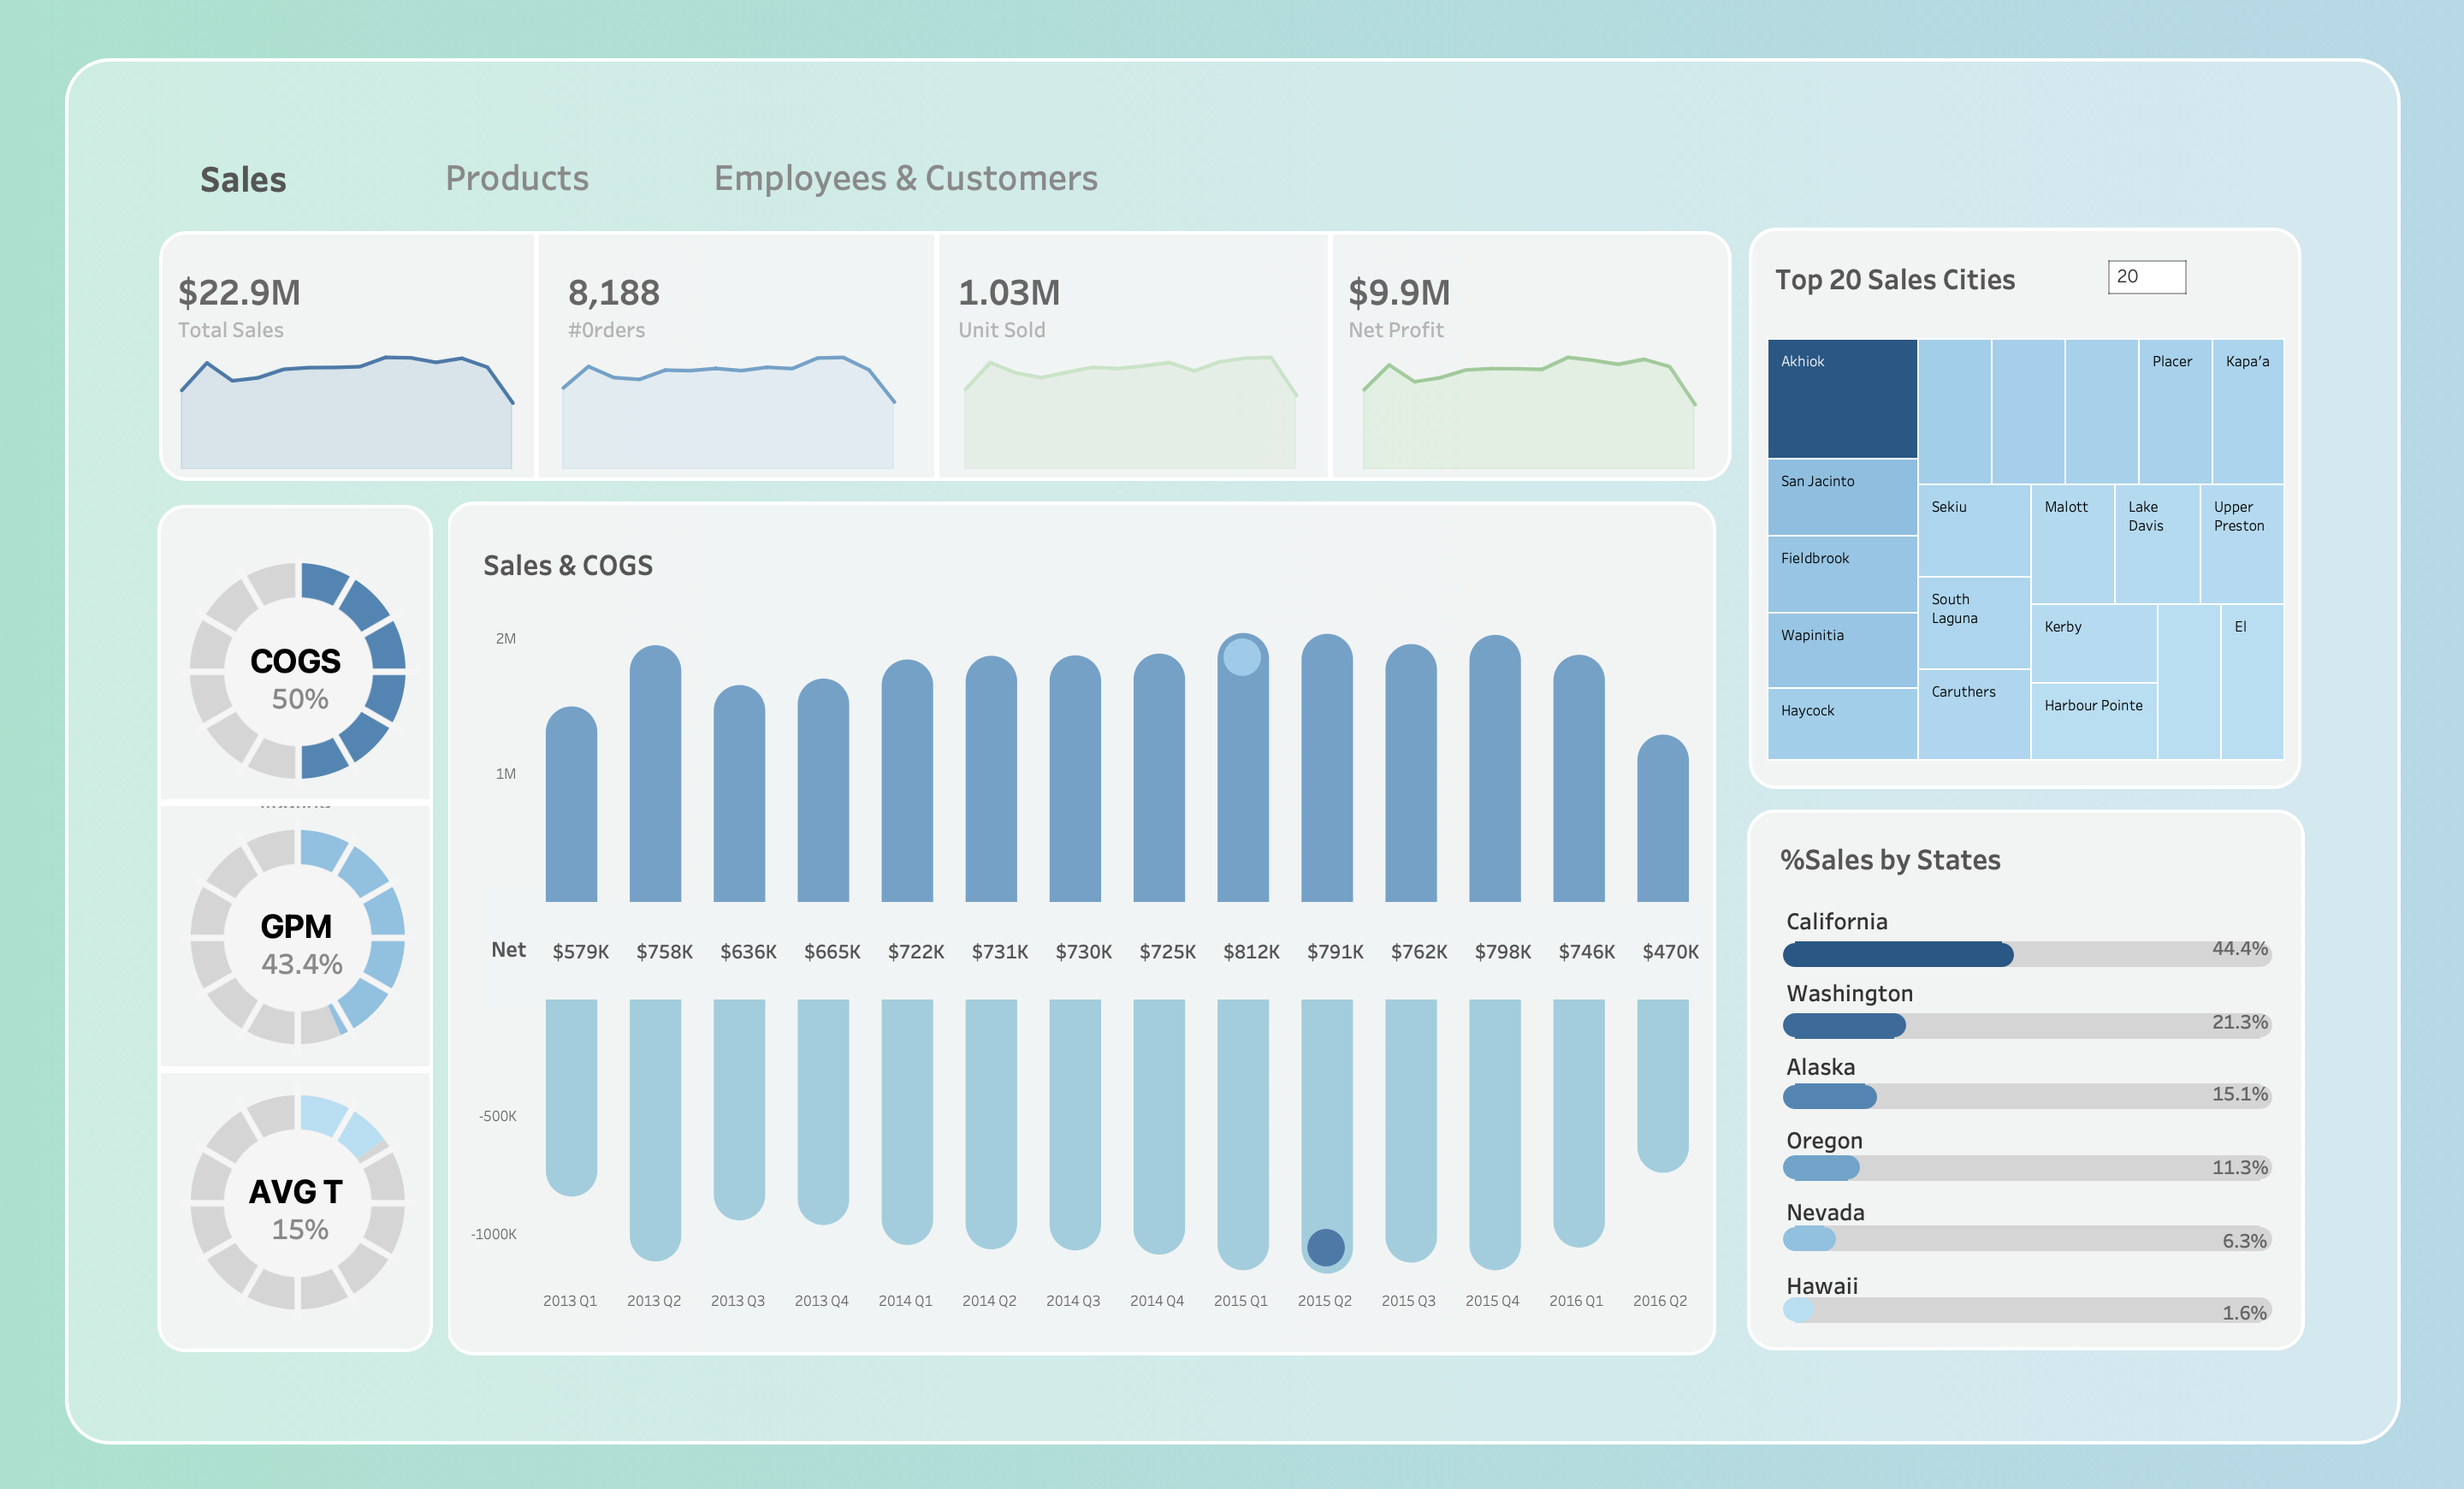

The dashboard page shown, as its layout file describes it:
{"tool":"tableau","page":{"name":"Sales Dashboard","canvas":[1000,1000],"units":"permille","ordinal":2},"visuals":[{"type":"legend","title":"Sales By Q","param":"[federated.0qf058k10rfr1t1eyij4x1151k9h].[usr:Calculation_0742859085803538:nk]","box":[880,9.3,114.3,76.7]},{"type":"worksheet","title":"Box","mark":"Automatic","box":[0,28.8,1000,975]},{"type":"text","box":[25,81.2,125,66.2]},{"type":"dashboard-object","box":[150,81.2,103.6,66.2]},{"type":"dashboard-object","box":[253.6,81.2,222.1,66.2]},{"type":"blank","box":[475.7,81.2,32.9,66.2]},{"type":"legend","title":"COGS By Q","param":"[federated.0qf058k10rfr1t1eyij4x1151k9h].[usr:Calculation_0742859087126549:nk]","box":[880,86,114.3,76.7]},{"type":"worksheet","title":"Box (4)","mark":"Automatic","box":[48.6,143.8,663.6,184.9]},{"type":"worksheet","title":"Box (2)","mark":"Automatic","box":[712.1,143.8,239.3,393.8]},{"type":"worksheet","title":"Sales KPIs Matrix","mark":"Automatic","box":[57.1,152.5,651.4,101.2]},{"type":"text","box":[725,165,131.4,37.5]},{"type":"parameter","param":"[Parameters].[Parameter 1]","box":[863.6,167.5,37.1,32.5]},{"type":"worksheet","title":"TOP N Cities","mark":"Automatic","box":[720.7,220,221.4,295]},{"type":"worksheet","title":"Sales Time Line","mark":"Line","rows":["Total Including Tax","Total Including Tax"],"cols":["Invoice Date Key"],"box":[53.6,231.2,153.6,81.2]},{"type":"worksheet","title":"Orders Time Line ","mark":"Line","rows":["WWI Invoice ID","WWI Invoice ID"],"cols":["Invoice Date Key"],"box":[212.9,231.2,153.6,81.2]},{"type":"worksheet","title":"Unit Sold Time Line","mark":"Line","rows":["Quantity","Quantity"],"cols":["Invoice Date Key"],"box":[380.7,231.2,153.6,81.2]},{"type":"worksheet","title":"Net Profit Time Line","mark":"Line","rows":["Profit","Profit"],"cols":["Invoice Date Key"],"box":[547.1,231.2,153.6,81.2]},{"type":"worksheet","title":"Box (5)","mark":"Automatic","box":[48.6,328.6,121.4,592.6]},{"type":"worksheet","title":"Box (3)","mark":"Automatic","box":[170,328.6,542.1,592.6]},{"type":"text","box":[185.7,358.8,75,37.5]},{"type":"worksheet","title":"COGS%","mark":"Pie","cols":["Calculation_0742859063345158","Calculation_0742859063357448"],"box":[56.4,359.3,107.1,181.4]},{"type":"worksheet","title":"Sales By Q","mark":"Line","rows":["Total Including Tax"],"cols":["Invoice Date Key"],"box":[177.9,410,522.1,230.9]},{"type":"worksheet","title":"Box (6)","mark":"Automatic","box":[712.1,537.5,239.3,383.8]},{"type":"worksheet","title":"GPM","mark":"Pie","cols":["Calculation_0742859063345158","Calculation_0742859063357448"],"box":[56.4,540.7,107.1,180.2]},{"type":"text","box":[727.1,558.8,131.4,37.5]},{"type":"worksheet","title":"Net text","mark":"Automatic","box":[187.9,596.2,24.3,86.2]},{"type":"worksheet","title":"Country Name","mark":"Automatic","rows":["State Province"],"box":[728.6,603.8,207.1,297.5]},{"type":"worksheet","title":"Profit By Q","mark":"Text","cols":["Invoice Date Key"],"box":[208.6,607.5,490,66.2]},{"type":"worksheet","title":"Country %","mark":"Automatic","rows":["State Province"],"box":[720,618.8,224.3,291.2]},{"type":"worksheet","title":"COGS By Q","mark":"Line","rows":["Calculation_0742859087962135"],"cols":["Invoice Date Key"],"box":[177.9,640.9,522.1,254.1]},{"type":"worksheet","title":"AVG Tax Rate","mark":"Pie","cols":["Calculation_0742859063345158","Calculation_0742859063357448"],"box":[56.4,720.9,107.1,180.2]}]}

Visuals, with their boxes on the dashboard's canvas, which has no fixed pixel size, in thousandths of its width and height (x1, y1, x2, y2). These are canvas units, not pixel positions in the 2464x1489 screenshot, which may show the page scaled, cropped or inside an application window:
"Sales By Q" legend: region(880, 9, 994, 86)
"Box" worksheet: region(0, 29, 1000, 1004)
text: region(25, 81, 150, 147)
dashboard-object: region(150, 81, 254, 147)
dashboard-object: region(254, 81, 476, 147)
blank: region(476, 81, 509, 147)
"COGS By Q" legend: region(880, 86, 994, 163)
"Box (4)" worksheet: region(49, 144, 712, 329)
"Box (2)" worksheet: region(712, 144, 951, 538)
"Sales KPIs Matrix" worksheet: region(57, 152, 708, 254)
text: region(725, 165, 856, 202)
parameter: region(864, 168, 901, 200)
"TOP N Cities" worksheet: region(721, 220, 942, 515)
"Sales Time Line" worksheet (Line marks): region(54, 231, 207, 312)
"Orders Time Line " worksheet (Line marks): region(213, 231, 366, 312)
"Unit Sold Time Line" worksheet (Line marks): region(381, 231, 534, 312)
"Net Profit Time Line" worksheet (Line marks): region(547, 231, 701, 312)
"Box (5)" worksheet: region(49, 329, 170, 921)
"Box (3)" worksheet: region(170, 329, 712, 921)
text: region(186, 359, 261, 396)
"COGS%" worksheet (Pie marks): region(56, 359, 164, 541)
"Sales By Q" worksheet (Line marks): region(178, 410, 700, 641)
"Box (6)" worksheet: region(712, 538, 951, 921)
"GPM" worksheet (Pie marks): region(56, 541, 164, 721)
text: region(727, 559, 858, 596)
"Net text" worksheet: region(188, 596, 212, 682)
"Country Name" worksheet: region(729, 604, 936, 901)
"Profit By Q" worksheet (Text marks): region(209, 608, 699, 674)
"Country %" worksheet: region(720, 619, 944, 910)
"COGS By Q" worksheet (Line marks): region(178, 641, 700, 895)
"AVG Tax Rate" worksheet (Pie marks): region(56, 721, 164, 901)
